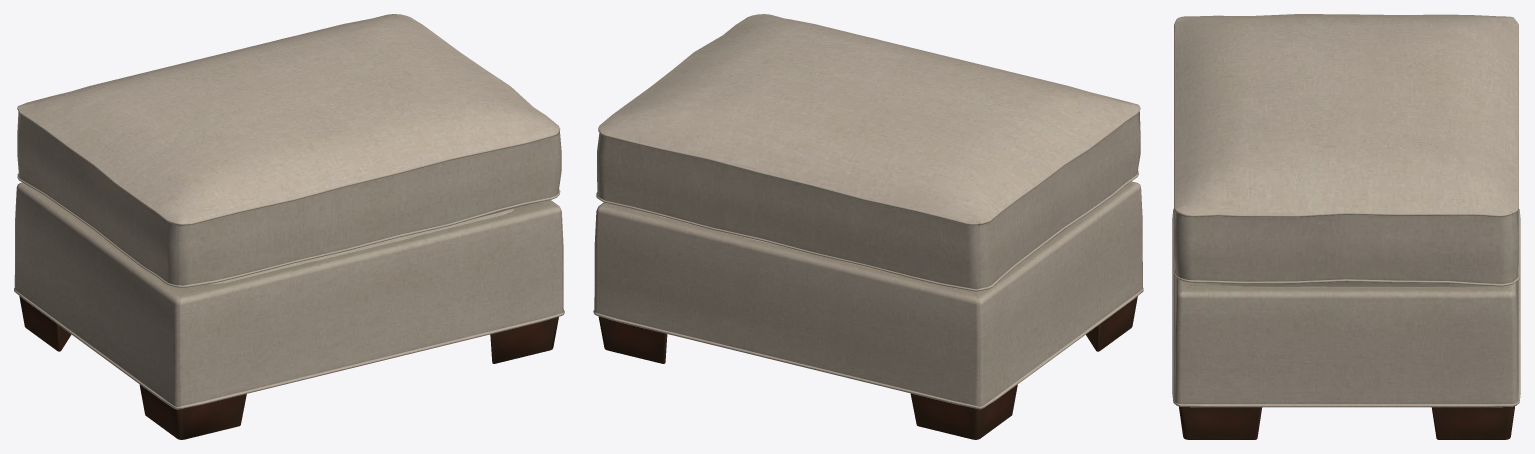
Rendered from ottoman_abo_B072JG3W4M.glb.
The picture shows the model from 3 angles, left to right: view 1: azimuth 30°, elevation 25°; view 2: azimuth 150°, elevation 25°; view 3: azimuth 270°, elevation 25°; orthographic projection. The views are drawn at different scales.
Parts seen in each view (by area): view 1: RootNode; view 2: RootNode; view 3: RootNode.
Boxes of the visible parts, <box> form: RootNode: <box>14,14,564,439</box>; RootNode: <box>593,14,1143,439</box>; RootNode: <box>1172,14,1520,439</box>.
Size of the model in its own units: 0.846 by 0.5027 by 0.6172.
Materials: 1 (1 with a texture image).
